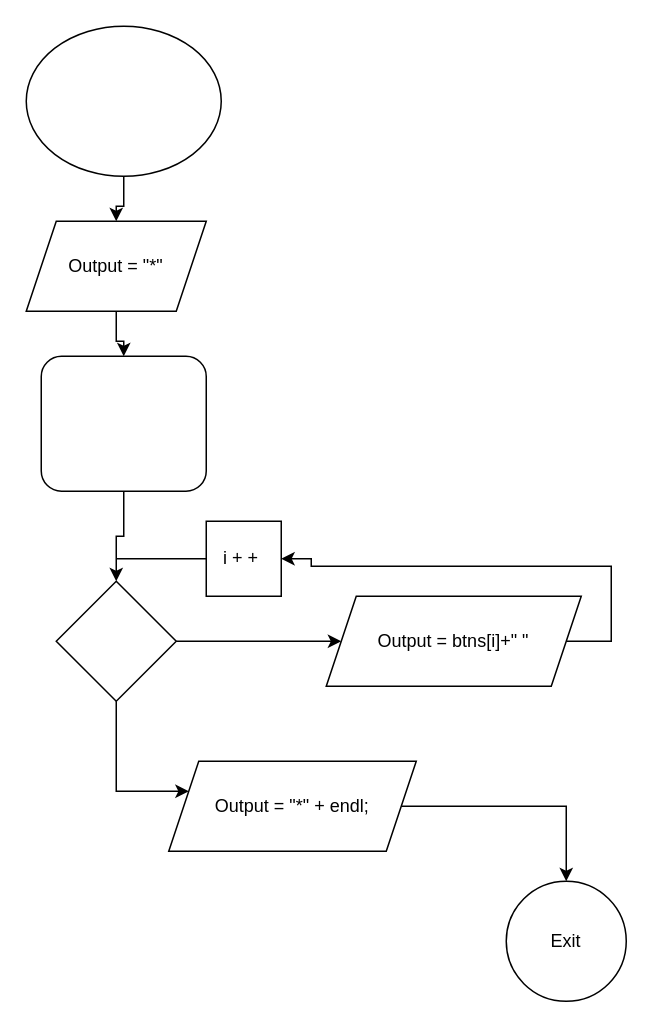
The diagram is 653 pixels wide and 1028 high, and some of its shapes have lost their labels. Each missing label, with the centre of its shape:
"Declare and initialize Variable for Loop i = 0" belongs at point 123,423.
"Display Buttons Funntion Parameters = btns [4]" belongs at point 123,100.
"i < 4" belongs at point 115,640.
